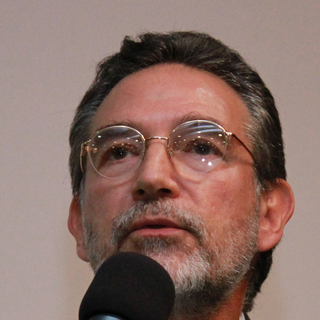eye: (182, 138, 227, 163), (99, 140, 141, 164)
